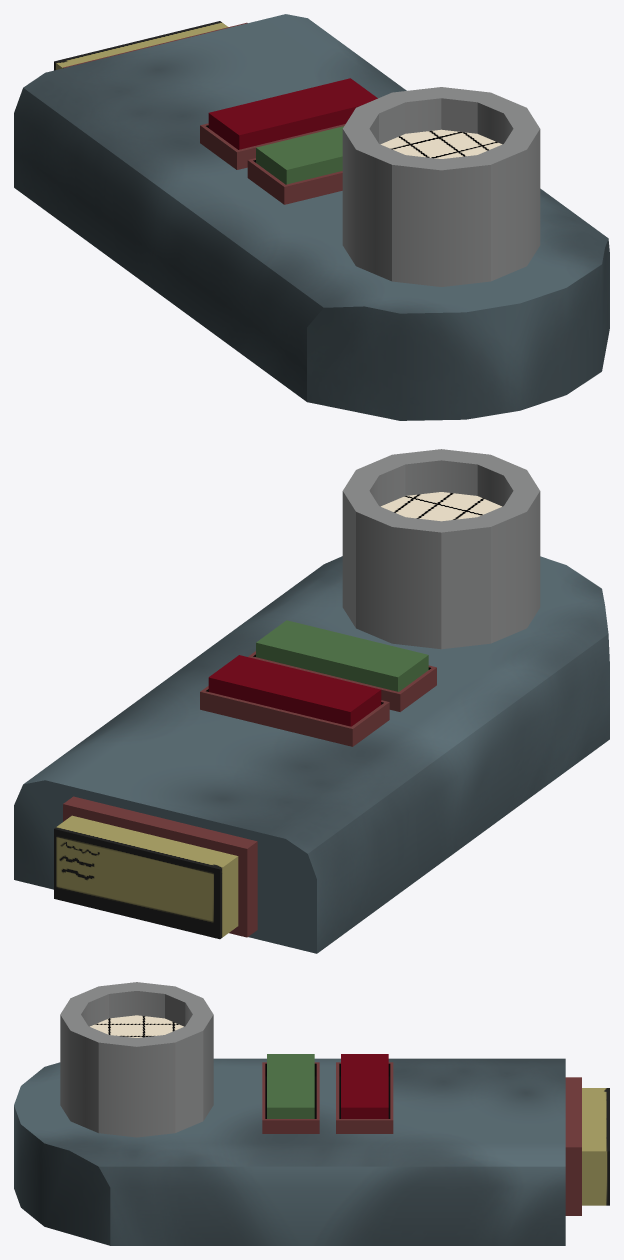
Rendered from Item_flashlight.fbx.
3 renders of one model, top to bottom at view 1: azimuth 30°, elevation 25°; view 2: azimuth 150°, elevation 25°; view 3: azimuth 270°, elevation 25°, orthographic. The views are drawn at different scales.
Parts seen in each view (by area): view 1: Flash_light; view 2: Flash_light; view 3: Flash_light.
Boxes of the visible parts, x1,y1,x2,y2 form: Flash_light: (14,14,609,420); Flash_light: (14,449,609,953); Flash_light: (14,982,609,1245).
Size of the model in its own units: 7.21 by 5.44 by 15.8.
